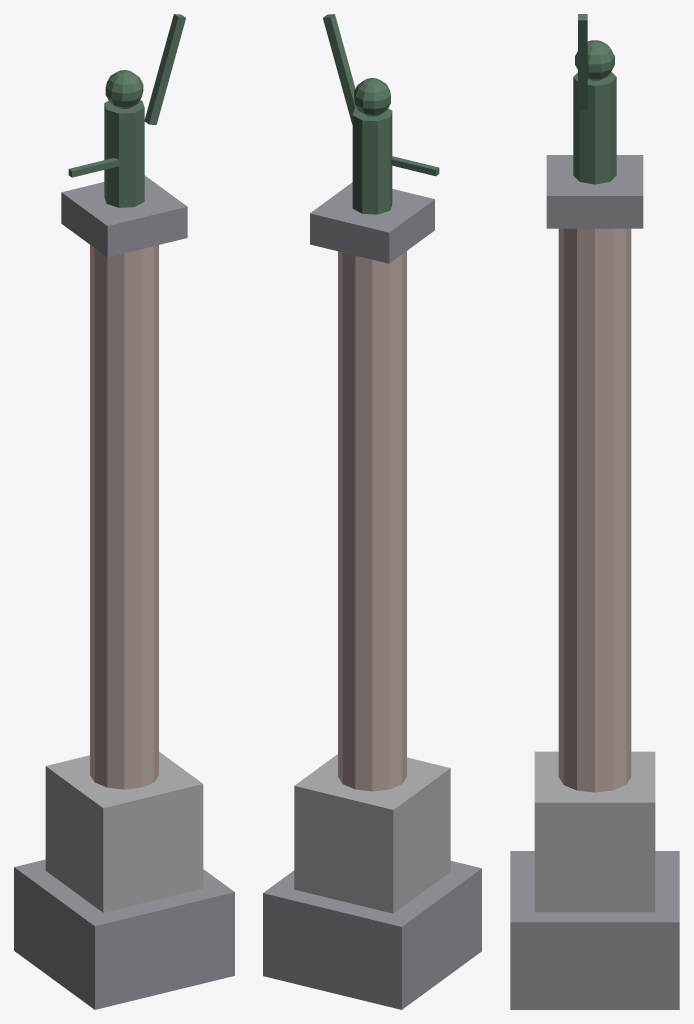
Rendered from kolumna.glb.
The picture shows the model from 3 angles, left to right: view 1: azimuth 30°, elevation 25°; view 2: azimuth 150°, elevation 25°; view 3: azimuth 270°, elevation 25°; orthographic projection. The views are drawn at different scales.
Parts seen in each view (by area): view 1: kolumna; view 2: kolumna; view 3: kolumna.
Part boxes in pixels (box(x1,y1,x2,y2)): kolumna: box(14, 14, 234, 1009); kolumna: box(263, 14, 481, 1009); kolumna: box(510, 14, 679, 1009).
Bounding box in the file's own units: 1.4 × 8.99 × 1.4.
